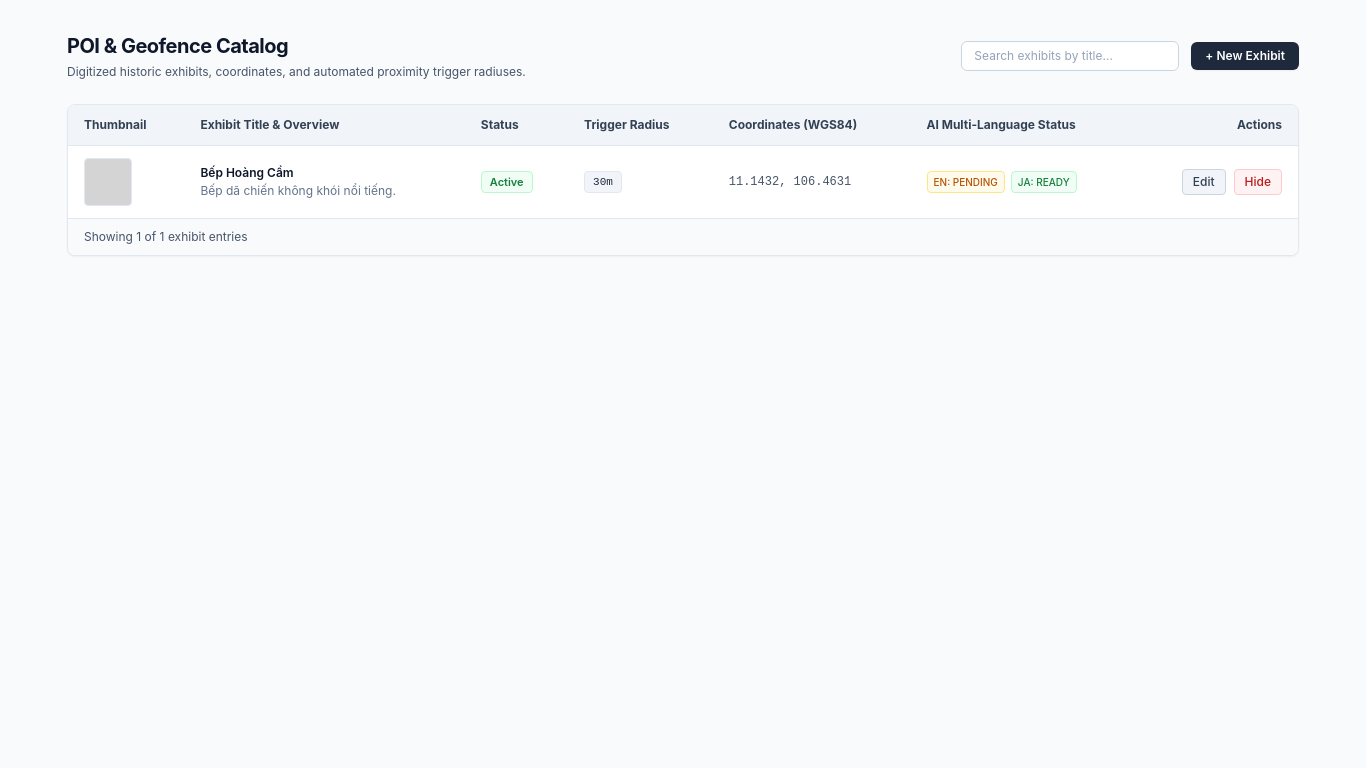
Test: PoiCatalogPage › renders Active status badge and opens deactivation modal when clicking Hide
Expected: the text "Active" is shown, [481,171,533,193]
Step 1. Click the button "Hide" → (1258, 182), box [1234,169,1282,195]
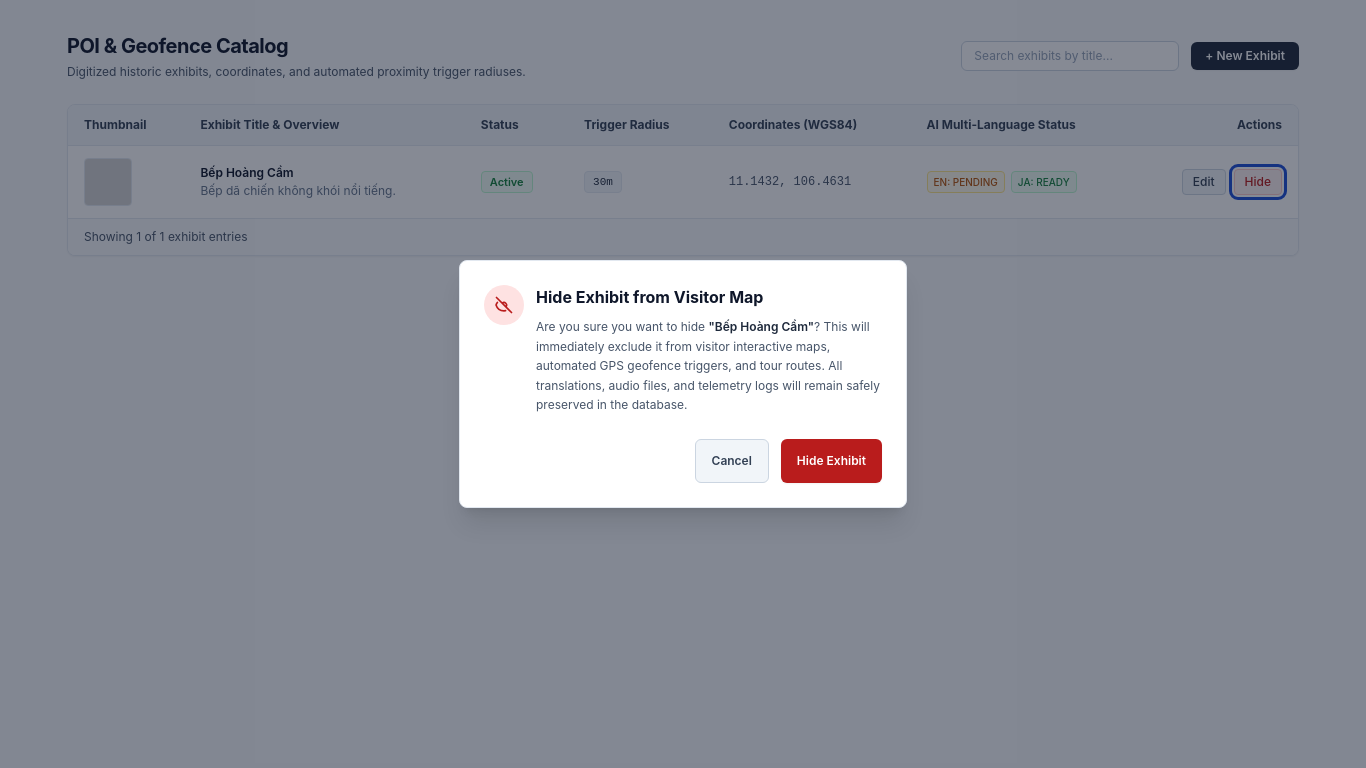
Expected: the heading "Hide Exhibit from Visitor Map" is shown, [536,287,763,307]
Step 2. Click the button "Hide Exhibit" → (831, 461), box [781,439,882,483]
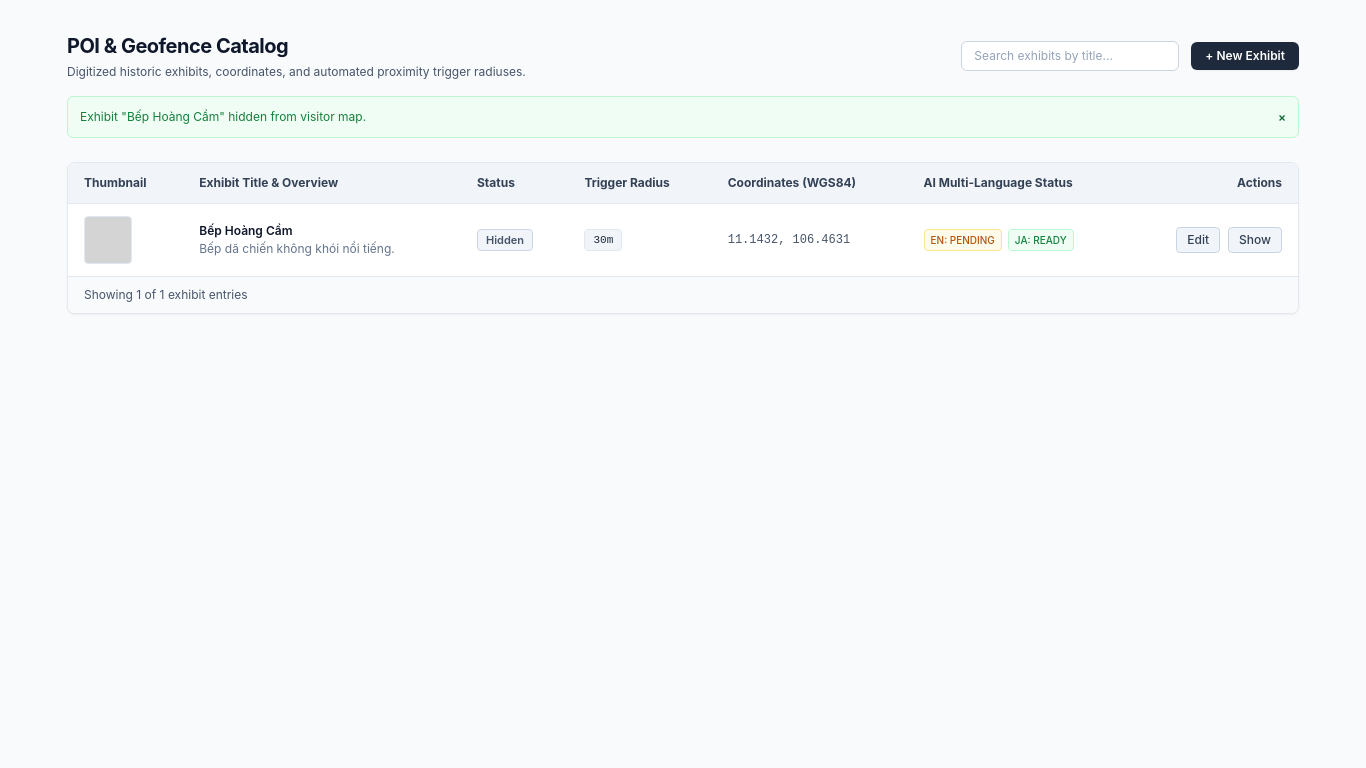
Expected: the text "Hidden" is shown, [477,229,533,251]
Expected: the text "Exhibit \"Bếp Hoàng Cầm\" hidden from visitor map." is shown, [80,109,366,125]
